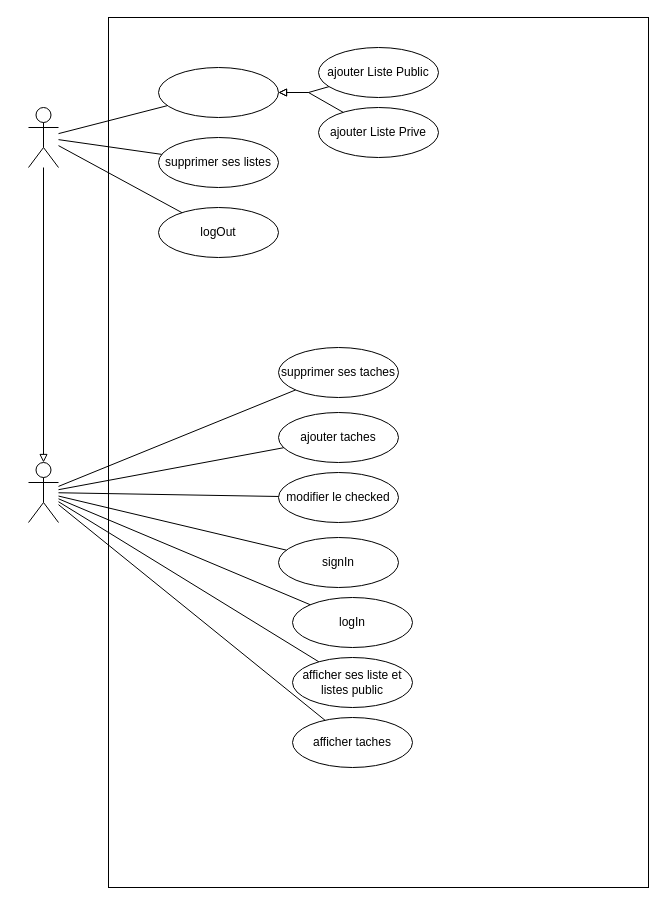
Some shapes in this 666 by 905 pixel diagram are drawn without their labels. The box of each missing label's shape, as (x1, y1, x2, y2) in pixels:
ajouter Liste: (158, 66, 278, 118)
Utilisateur: (28, 106, 58, 168)
Visiteur: (28, 462, 58, 522)
